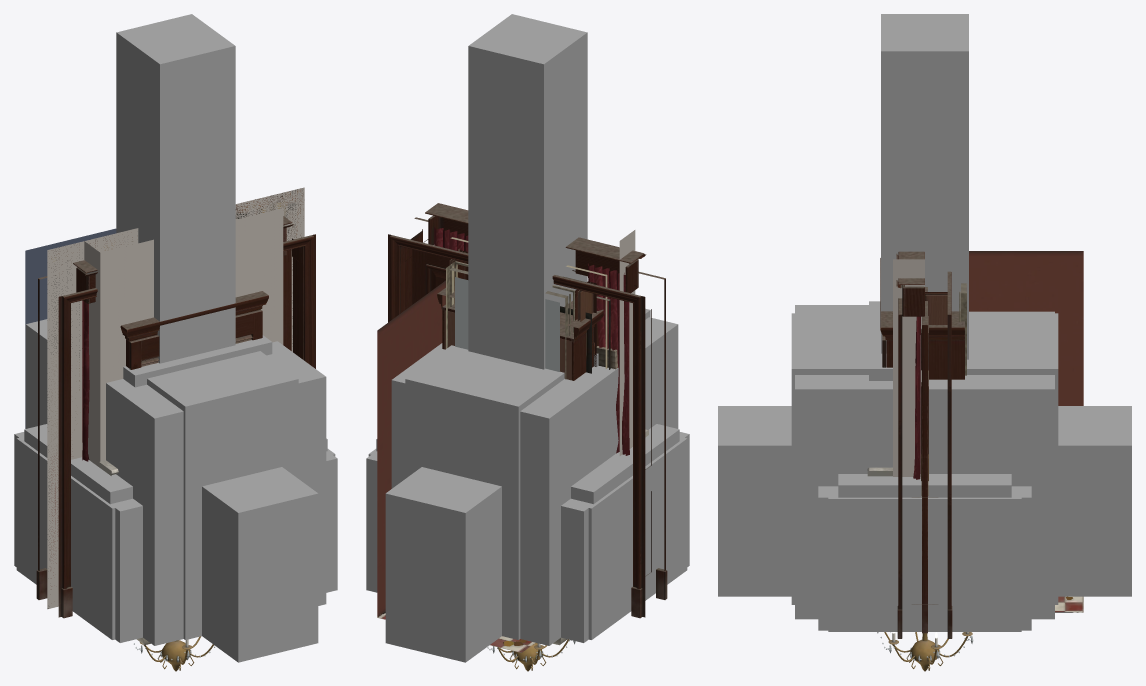
The model's file is tile.glb.
3 views of the same model, side by side, from view 1: azimuth 30°, elevation 25°; view 2: azimuth 150°, elevation 25°; view 3: azimuth 270°, elevation 25° (orthographic).
Parts seen in each view (by area): view 1: Col_column_tile_H400, Isl_grand_piano, Solid_display_bench, Col_column_tile_H450, Solid_vitrine_double, Mod_fireplace_tile, Isl_dining, Door_closed_tile, Door_frame_tile, Col_column_tile_H350, Isl_parlour, Win_tall (+13 smaller); view 2: Col_column_tile_H400, Isl_grand_piano, Solid_display_bench, Col_column_tile_H450, Solid_vitrine_double, Col_column_tile_H350, Isl_dining, Door_frame_tile, Exit_tile_p0, Win_tall_curtain, Isl_parlour, Isl_reading (+6 smaller); view 3: Isl_grand_piano, Solid_display_bench, Isl_dining, Col_column_tile_H450, Solid_vitrine_double, Exit_tile_p0, Col_column_tile_H350, Col_column_tile_H400, Mod_fireplace_tile, Isl_reading, Door_frame_tile, Isl_parlour (+5 smaller).
Part boxes in pixels (left/top/right/bottom): Col_column_tile_H400: left=116, top=92, right=235, bottom=363; Isl_grand_piano: left=25, top=319, right=326, bottom=645; Solid_display_bench: left=202, top=467, right=318, bottom=662; Col_column_tile_H450: left=116, top=14, right=235, bottom=362; Solid_vitrine_double: left=147, top=351, right=298, bottom=639; Mod_fireplace_tile: left=47, top=189, right=304, bottom=608; Isl_dining: left=16, top=437, right=335, bottom=639; Door_closed_tile: left=47, top=188, right=304, bottom=608; Door_frame_tile: left=36, top=234, right=315, bottom=618; Col_column_tile_H350: left=116, top=160, right=235, bottom=363; Isl_parlour: left=14, top=432, right=337, bottom=642; Win_tall: left=47, top=187, right=304, bottom=608; Col_column_tile_H400: left=468, top=92, right=587, bottom=369; Isl_grand_piano: left=391, top=317, right=678, bottom=645; Solid_display_bench: left=385, top=467, right=501, bottom=662; Col_column_tile_H450: left=468, top=14, right=587, bottom=368; Solid_vitrine_double: left=405, top=308, right=650, bottom=639; Col_column_tile_H350: left=468, top=158, right=586, bottom=368; Isl_dining: left=368, top=437, right=687, bottom=639; Door_frame_tile: left=388, top=217, right=667, bottom=618; Exit_tile_p0: left=377, top=280, right=610, bottom=652; Win_tall_curtain: left=425, top=203, right=646, bottom=455; Isl_parlour: left=366, top=432, right=689, bottom=642; Isl_reading: left=376, top=424, right=679, bottom=504; Isl_grand_piano: left=795, top=305, right=1054, bottom=619; Solid_display_bench: left=718, top=406, right=1131, bottom=596; Isl_dining: left=828, top=486, right=1021, bottom=631; Col_column_tile_H450: left=881, top=14, right=968, bottom=359; Solid_vitrine_double: left=791, top=313, right=1058, bottom=604; Exit_tile_p0: left=969, top=251, right=1083, bottom=612; Col_column_tile_H350: left=881, top=172, right=968, bottom=359; Col_column_tile_H400: left=881, top=111, right=968, bottom=353; Mod_fireplace_tile: left=867, top=259, right=924, bottom=476; Isl_reading: left=838, top=474, right=1011, bottom=497; Door_frame_tile: left=897, top=271, right=952, bottom=638; Isl_parlour: left=818, top=486, right=1031, bottom=630.
Size of the model in its own units: 2.25 by 5.29 by 3.1.
Materials: 19 (14 with a texture image).
